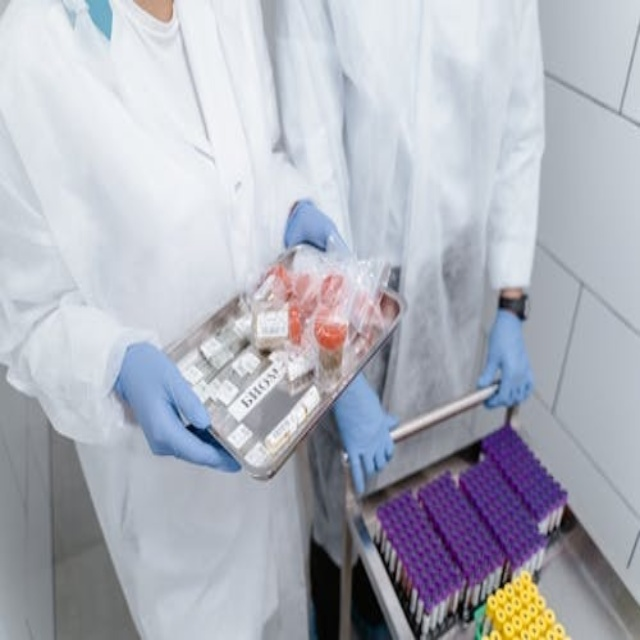Guantes: (115, 342, 242, 472), (331, 368, 401, 494), (476, 303, 534, 413), (284, 199, 350, 257)
